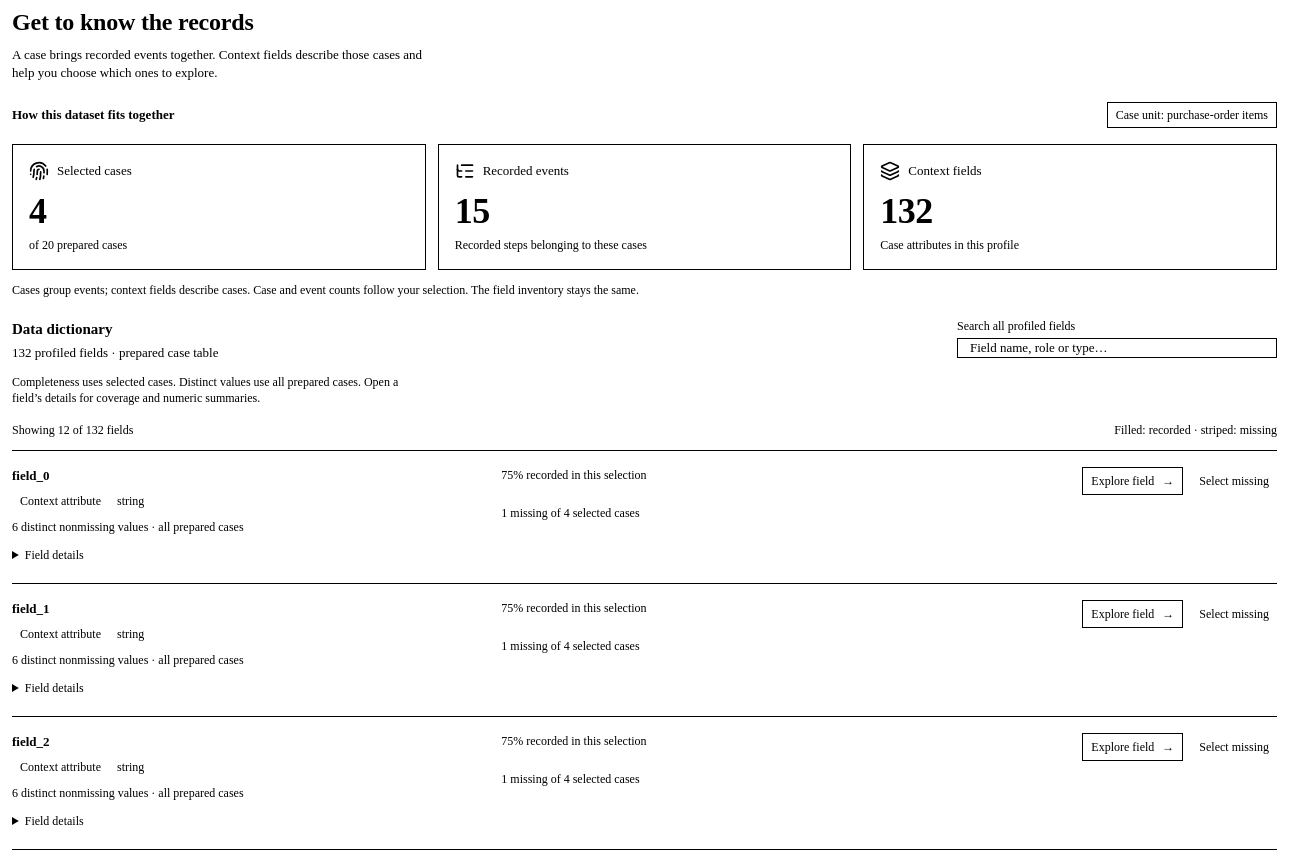
shows twelve fields initially, searches the whole inventory and supports show all
Expected: the text "132 profiled fields · prepared case table" is shown, [12,344,218,362]
Expected: the element "field_131" is not shown
In the search field: [1117, 348] box [957,338,1277,358], type "DECIMAL128"
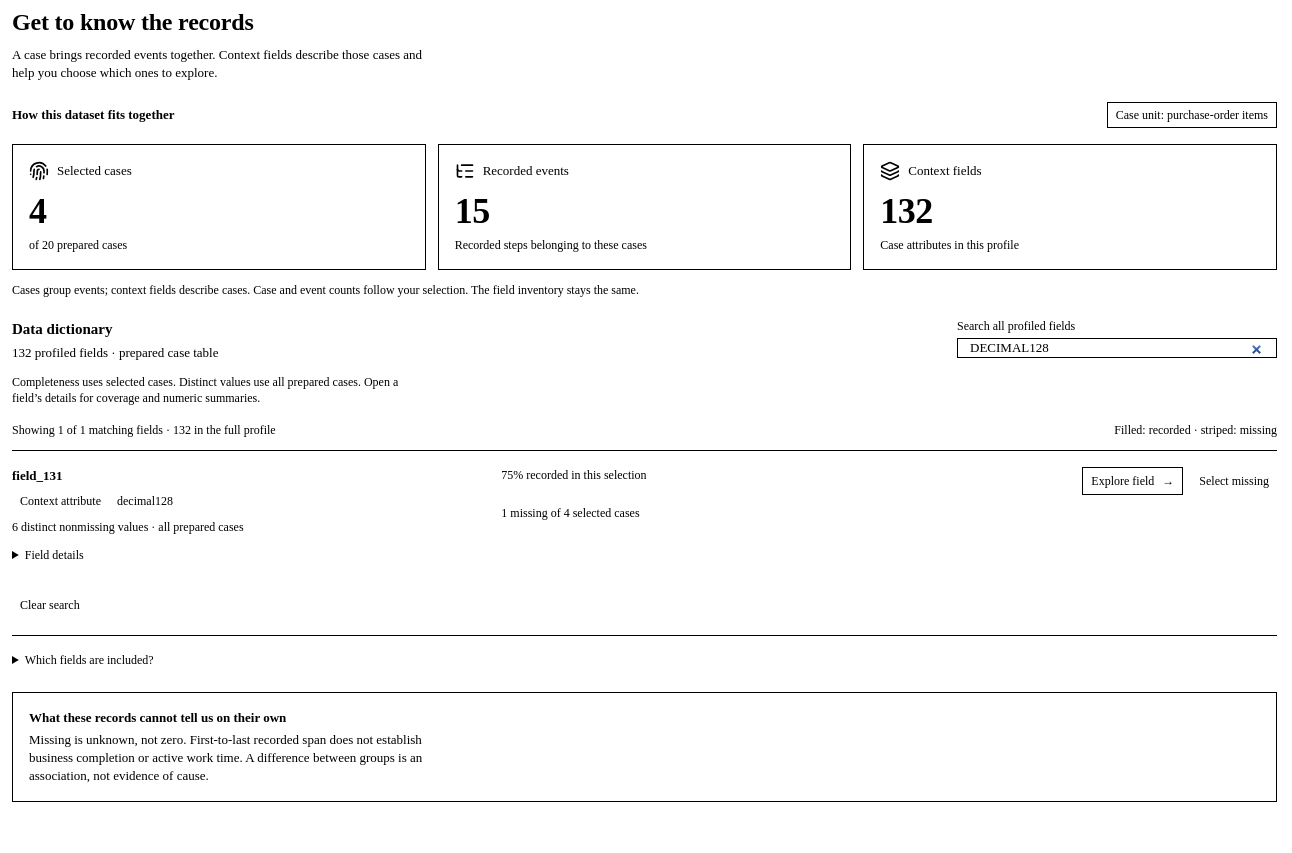
Result: the element "field_131" is shown at [12,467,1277,567]
Result: the message shows "1 of 1 matching fields · 132 in the full profile" at [12,422,276,438]
Click the button "Clear search": [50, 605] box [12,591,88,619]
(page scrolled)
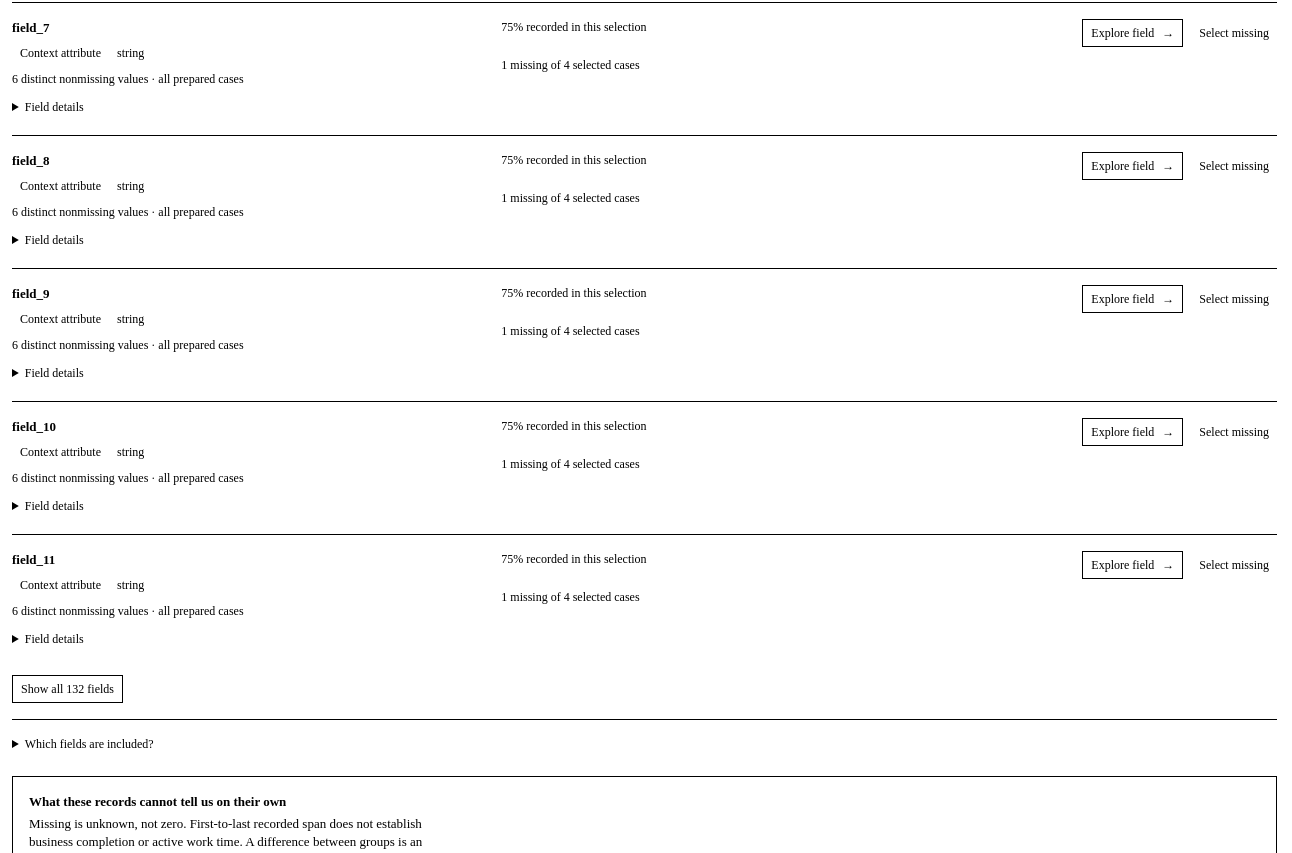
Click the button "Show all 132 fields": [68, 689] box [12,675,123,703]
(page scrolled)
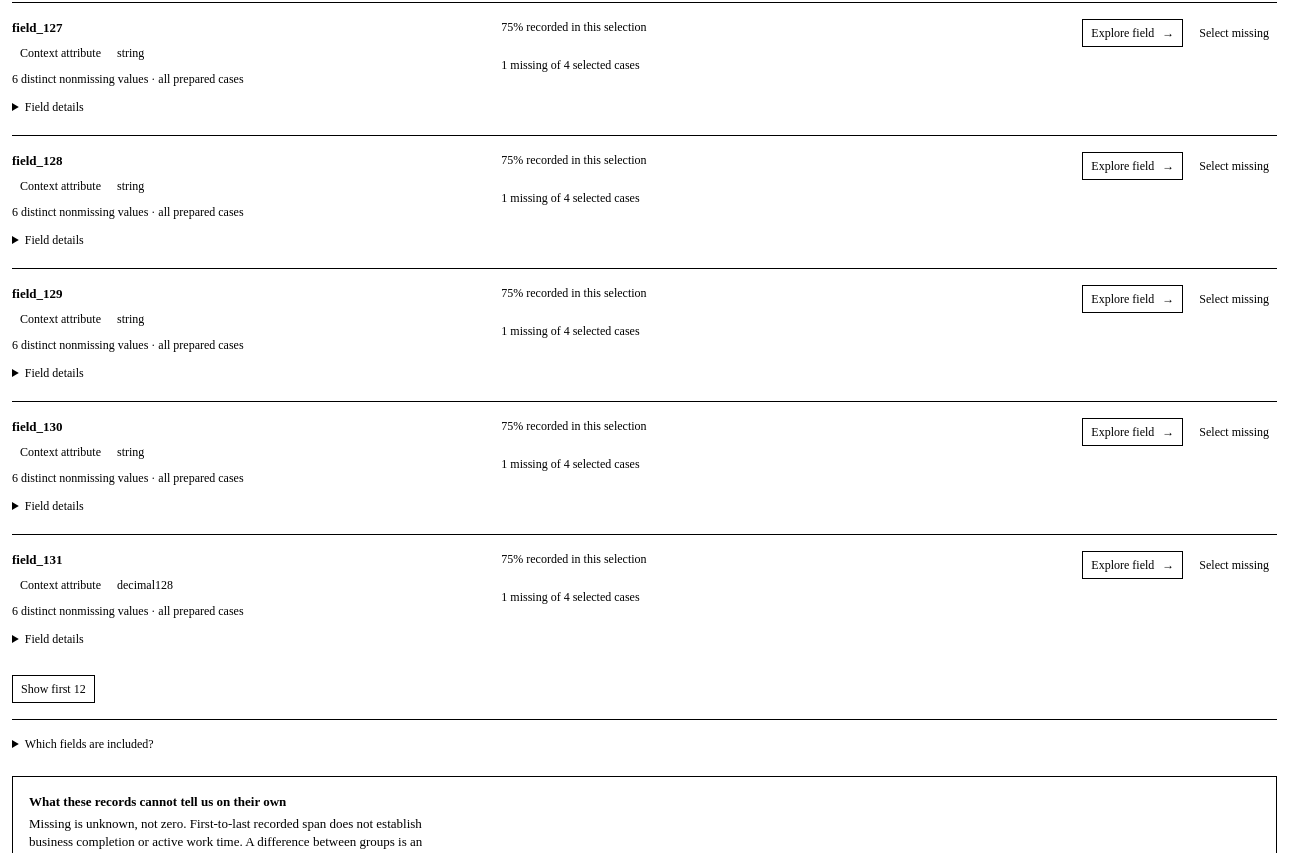
Click the button "Show first 12": [53, 689] box [12,675,95,703]
(page scrolled)
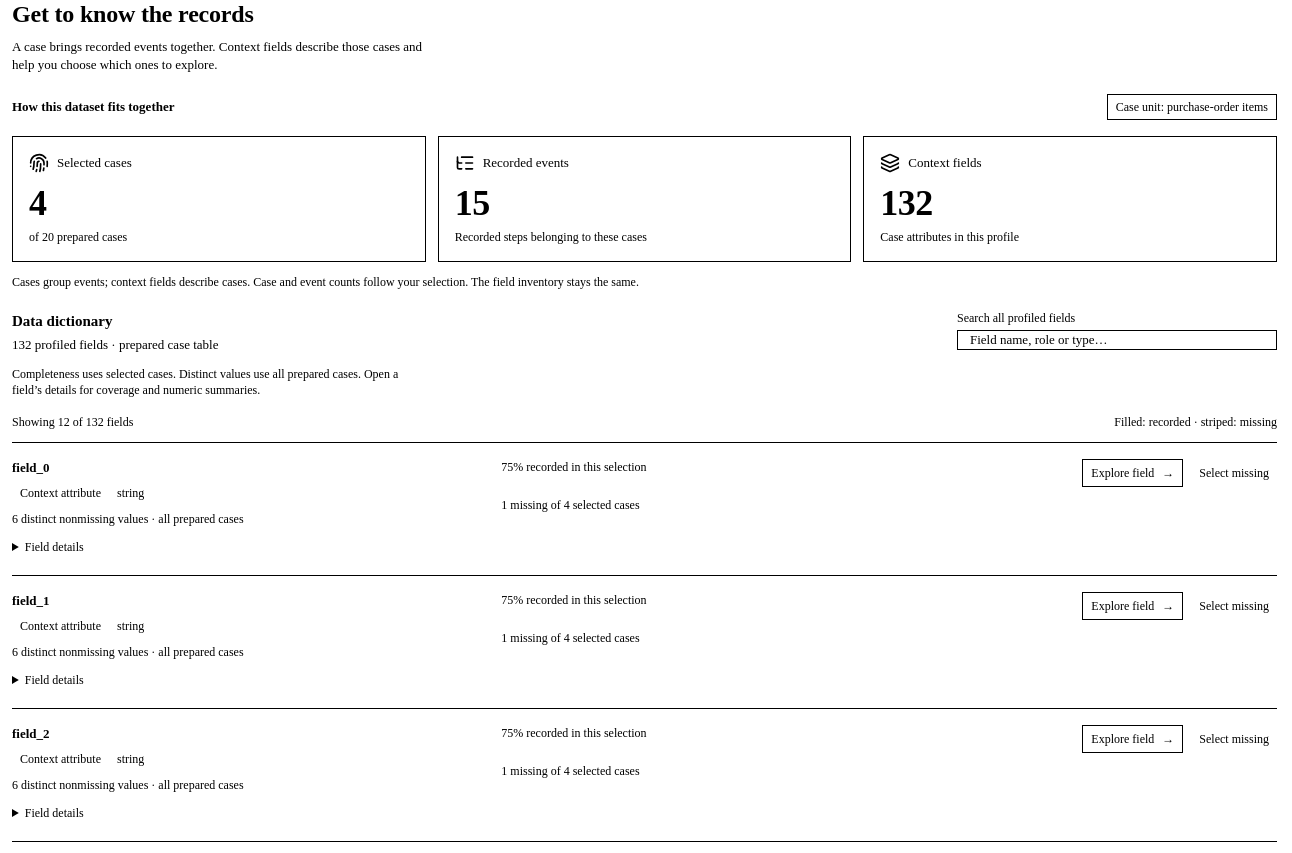
In the search field: [1117, 340] box [957,330,1277,350], type "absent column"
(page scrolled)
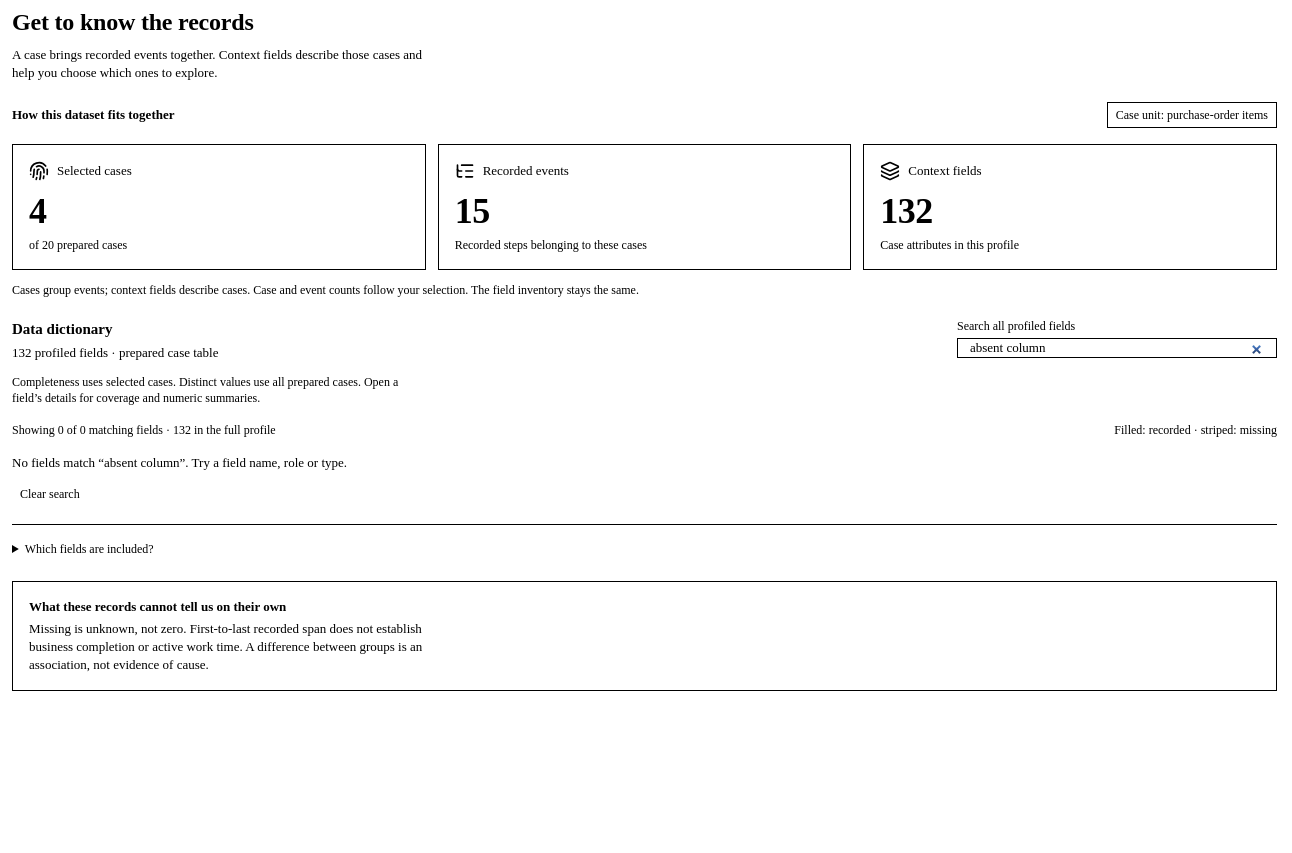
Result: the text "No fields match" is shown at [12,455,104,470]
